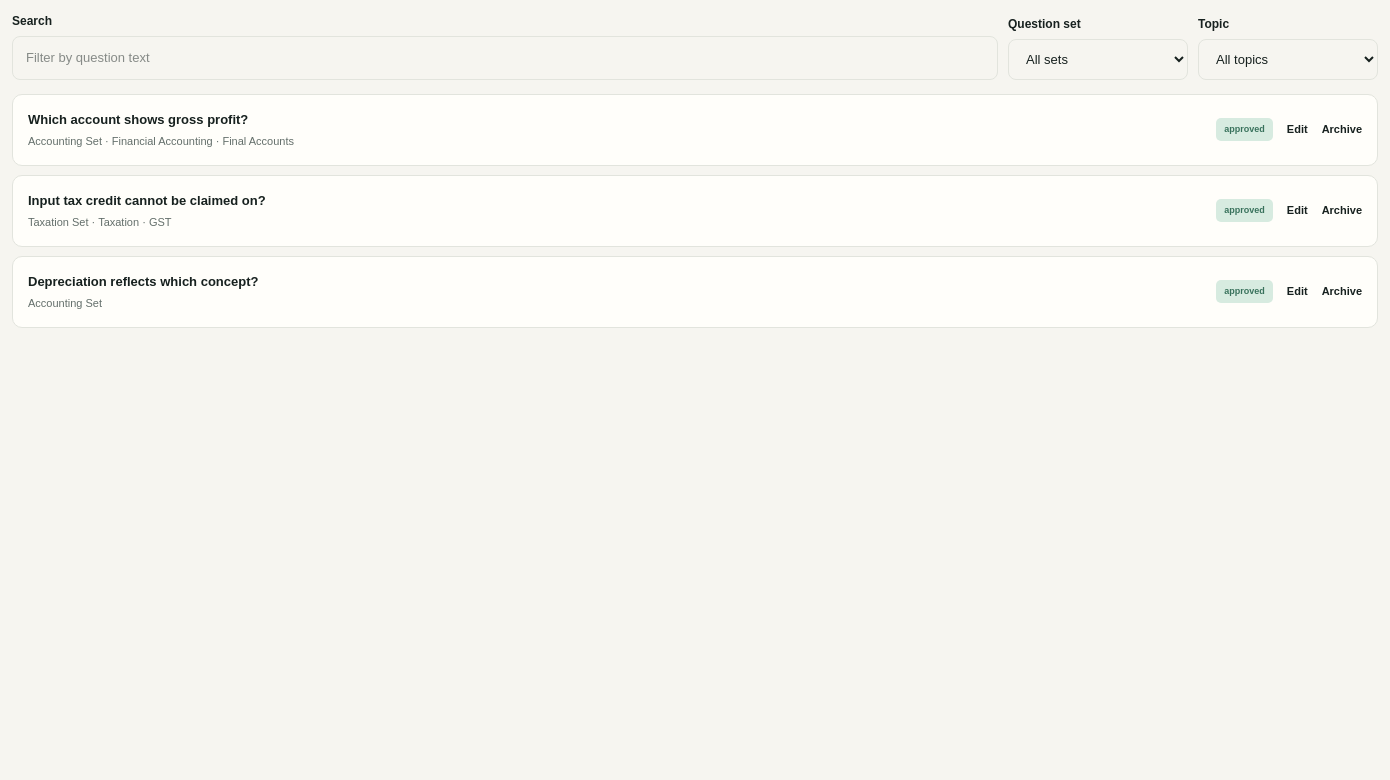
Test: QuestionBankList › shows the option text as editable fields with the correct answer preselected
This screenshot has width=1390, height=780.
Click the button "Edit" in the row of "· Financial Accounting · Final Accounts" at coordinates (1297, 130), box [1287,121,1308,138]
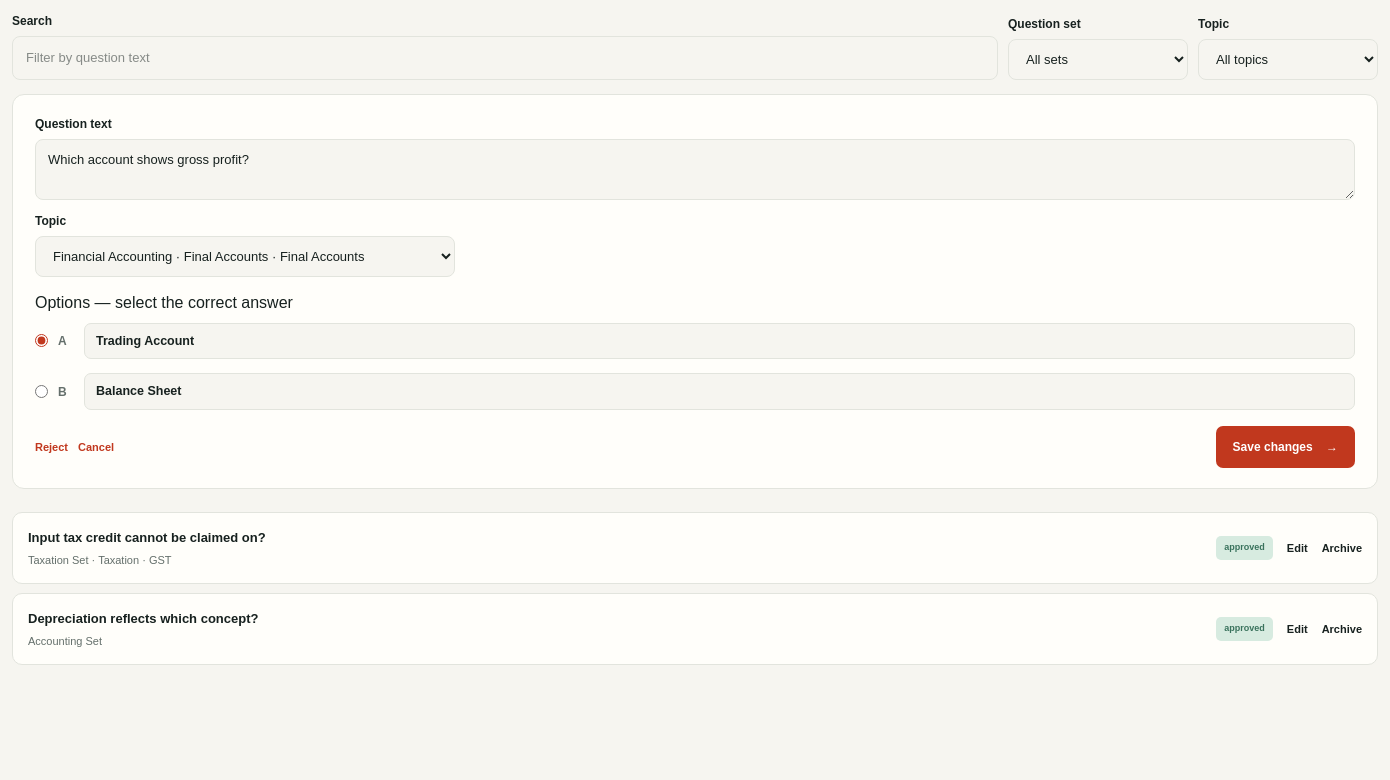
Expected: the field showing "Trading Account" is shown, [84,322,1355,359]
Expected: the field showing "Balance Sheet" is shown, [84,373,1355,410]
Expected: the radio button labelled "A" is checked, [35,334,48,347]
